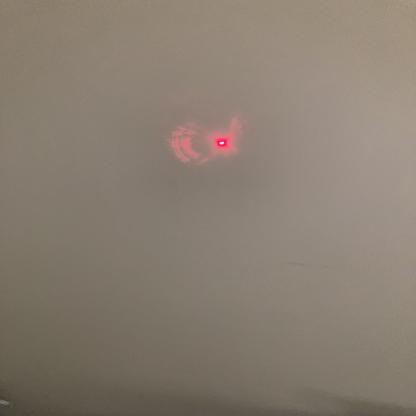target: (211, 134, 234, 152)
